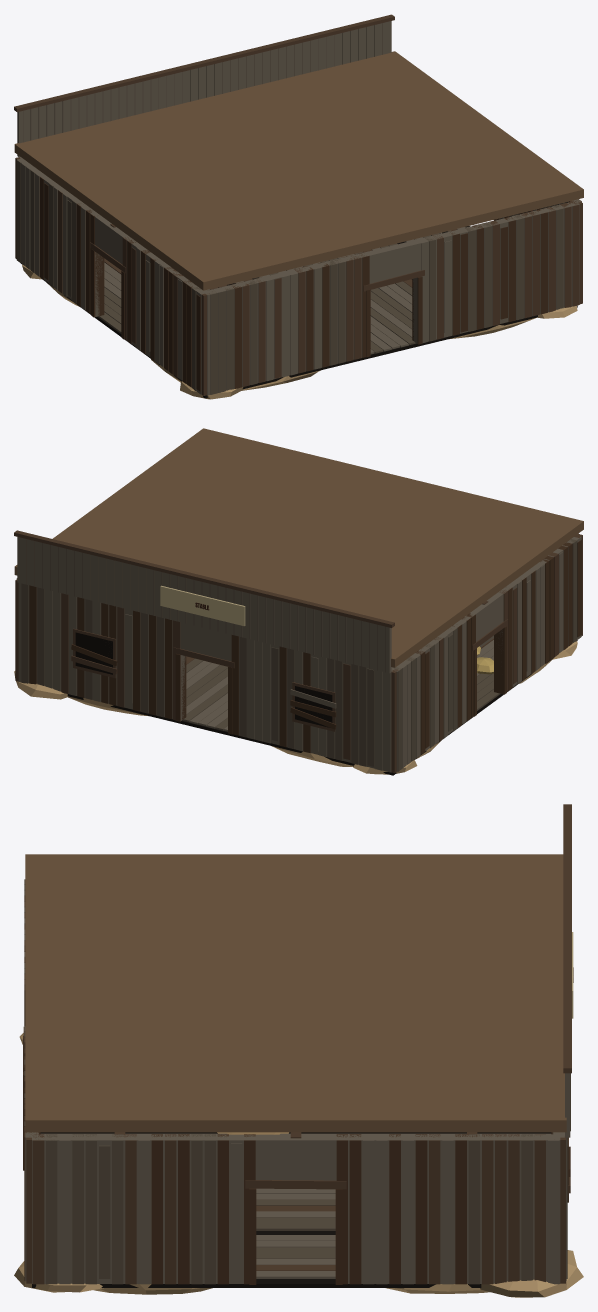
The model's file is TownBldg_stable.glb.
3 renders of one model, top to bottom at view 1: azimuth 30°, elevation 25°; view 2: azimuth 150°, elevation 25°; view 3: azimuth 270°, elevation 25°, orthographic. The views are drawn at different scales.
Visible parts, largest first — view 1: TownBldg_stable.001; view 2: TownBldg_stable.001; view 3: TownBldg_stable.001.
Boxes of the visible parts, x1,y1,x2,y2 form: TownBldg_stable.001: [14, 14, 583, 399]; TownBldg_stable.001: [14, 428, 583, 775]; TownBldg_stable.001: [14, 804, 583, 1297].
Bounding box in the file's own units: 14.9 × 5.85 × 12.95.
